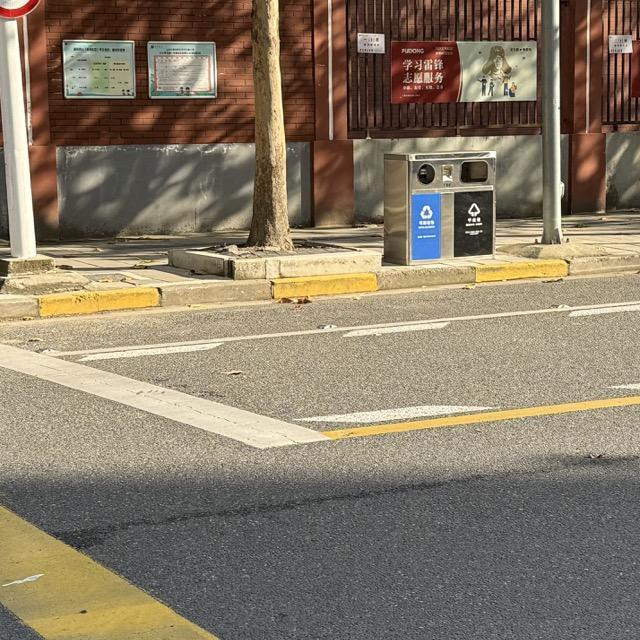curb: (0, 255, 639, 321), (168, 250, 381, 279)
